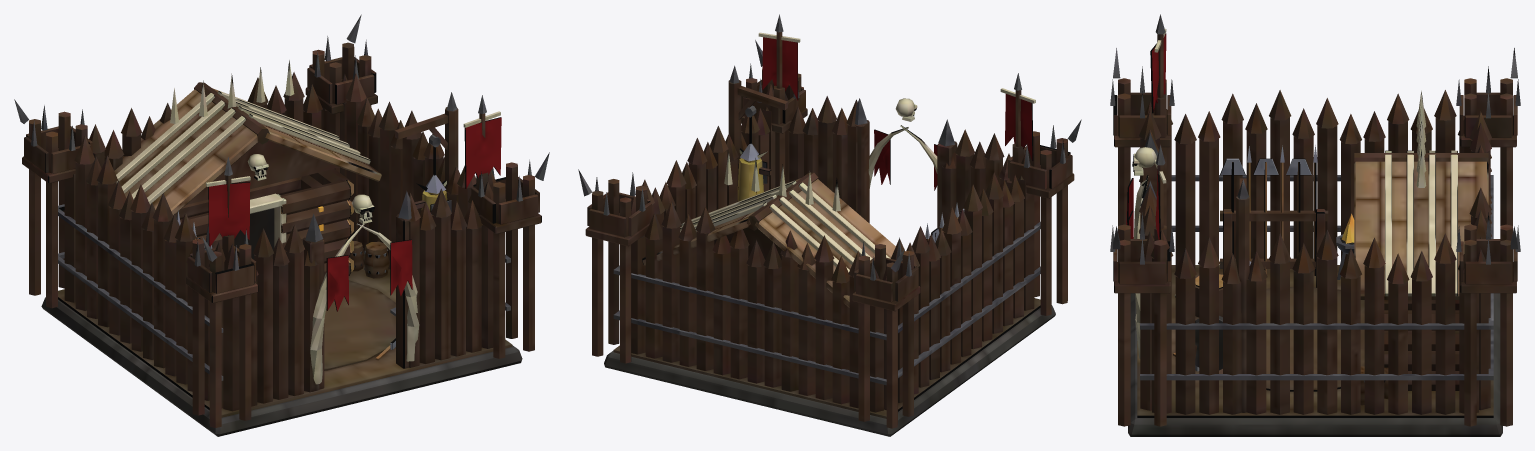
Rendered from orc_barracks.glb.
3 renders of one model, left to right at view 1: azimuth 30°, elevation 25°; view 2: azimuth 150°, elevation 25°; view 3: azimuth 270°, elevation 25°, orthographic. The views are drawn at different scales.
Visible parts, largest first — view 1: Static_Mesh, Anim_Banners, Anim_TrainingDummy; view 2: Static_Mesh, Anim_Banners, Anim_TrainingDummy; view 3: Static_Mesh, Anim_Banners.
Part boxes in pixels (x1,y1,x2,y2): Static_Mesh: (14,14,549,436); Anim_Banners: (208,117,501,311); Anim_TrainingDummy: (414,146,451,214); Static_Mesh: (578,14,1081,436); Anim_Banners: (762,37,1033,190); Anim_TrainingDummy: (737,117,771,201); Static_Mesh: (1110,14,1520,436); Anim_Banners: (1126,33,1166,239).
Bounding box in the file's own units: 7.23 × 5.25 × 6.99.
2 materials, 2 textured.
